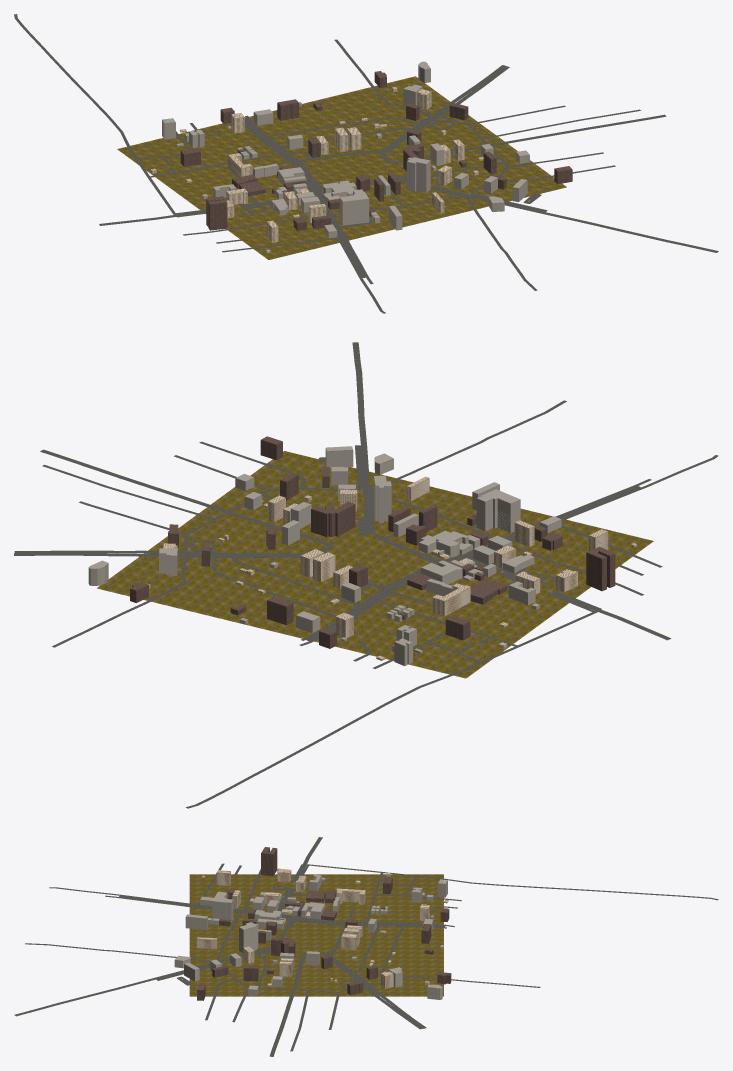
File: chennai_tnagar.glb
The picture shows the model from 3 angles, top to bottom: view 1: azimuth 30°, elevation 25°; view 2: azimuth 150°, elevation 25°; view 3: azimuth 270°, elevation 25°; orthographic projection. The views are drawn at different scales.
Visible parts, largest first — view 1: SITE_GROUND, ROAD_41, VERTICA-CHN-A-041_SHELL, ROAD_8, VERTICA-CHN-A-044_SHELL, ROAD_21, VERTICA-CHN-A-045_SHELL; view 2: SITE_GROUND, ROAD_41, VERTICA-CHN-A-041_SHELL, ROAD_21, VERTICA-CHN-A-042_SHELL, ROAD_8, VERTICA-CHN-A-045_SHELL; view 3: SITE_GROUND, ROAD_41, ROAD_21, ROAD_8, VERTICA-CHN-A-044_SHELL, VERTICA-CHN-A-041_SHELL, VERTICA-CHN-A-045_SHELL.
Boxes of the visible parts, x1=… form: SITE_GROUND: x1=117, y1=76, x2=566, y2=259; ROAD_41: x1=14, y1=14, x2=176, y2=214; VERTICA-CHN-A-041_SHELL: x1=339, y1=191, x2=369, y2=225; ROAD_8: x1=465, y1=194, x2=718, y2=252; VERTICA-CHN-A-044_SHELL: x1=406, y1=159, x2=430, y2=192; ROAD_21: x1=391, y1=114, x2=666, y2=163; VERTICA-CHN-A-045_SHELL: x1=206, y1=199, x2=227, y2=230; SITE_GROUND: x1=97, y1=451, x2=653, y2=678; ROAD_41: x1=186, y1=611, x2=598, y2=808; VERTICA-CHN-A-041_SHELL: x1=476, y1=498, x2=520, y2=532; ROAD_21: x1=40, y1=449, x2=332, y2=546; VERTICA-CHN-A-042_SHELL: x1=311, y1=504, x2=355, y2=536; ROAD_8: x1=352, y1=342, x2=369, y2=491; VERTICA-CHN-A-045_SHELL: x1=586, y1=551, x2=615, y2=591; SITE_GROUND: x1=189, y1=874, x2=443, y2=996; ROAD_41: x1=303, y1=864, x2=718, y2=900; ROAD_21: x1=269, y1=952, x2=306, y2=1056; ROAD_8: x1=14, y1=964, x2=210, y2=1016; VERTICA-CHN-A-044_SHELL: x1=239, y1=924, x2=258, y2=953; VERTICA-CHN-A-041_SHELL: x1=212, y1=893, x2=233, y2=922; VERTICA-CHN-A-045_SHELL: x1=261, y1=848, x2=277, y2=876.
Size of the model in its own units: 1366 by 70.21 by 1851.
Materials: 6 (6 with a texture image).
